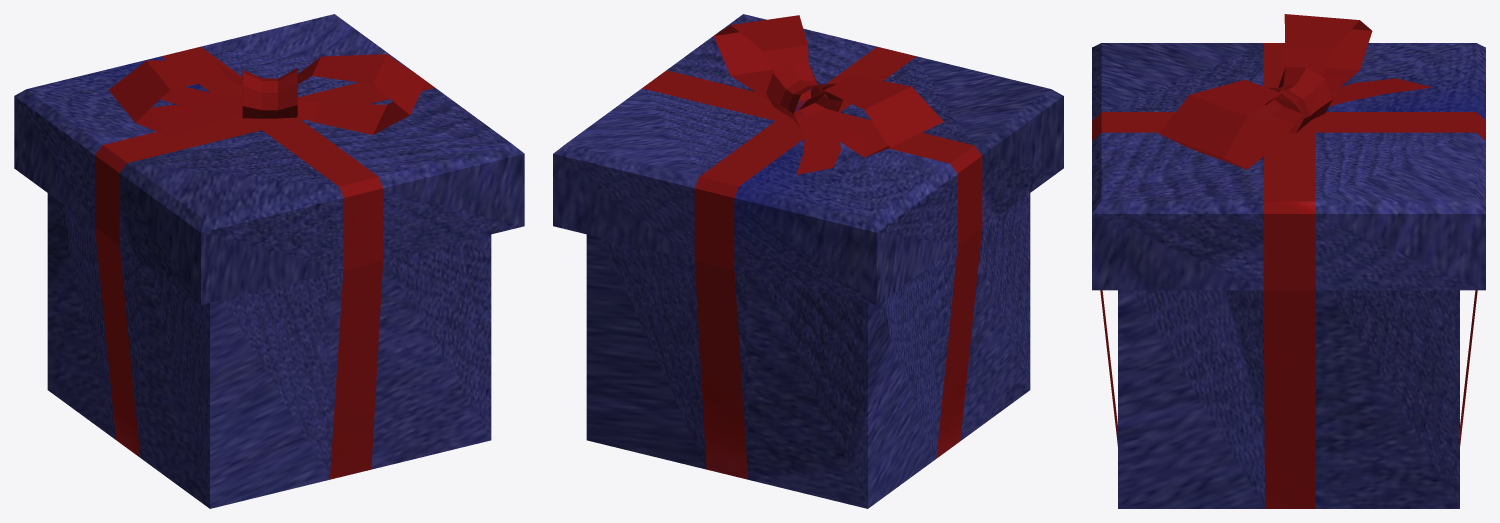
Rendered from gift2022.glb.
The picture shows the model from 3 angles, left to right: view 1: azimuth 30°, elevation 25°; view 2: azimuth 150°, elevation 25°; view 3: azimuth 270°, elevation 25°; orthographic projection. The views are drawn at different scales.
Visible parts, largest first — view 1: Gift; view 2: Gift; view 3: Gift.
Part boxes in pixels (x1=…): Gift: x1=14, y1=14, x2=524, y2=508; Gift: x1=553, y1=14, x2=1063, y2=508; Gift: x1=1092, y1=14, x2=1485, y2=508.
Bounding box in the file's own units: 0.3718 × 0.3861 × 0.3718.
Materials: 1 (1 with a texture image).
